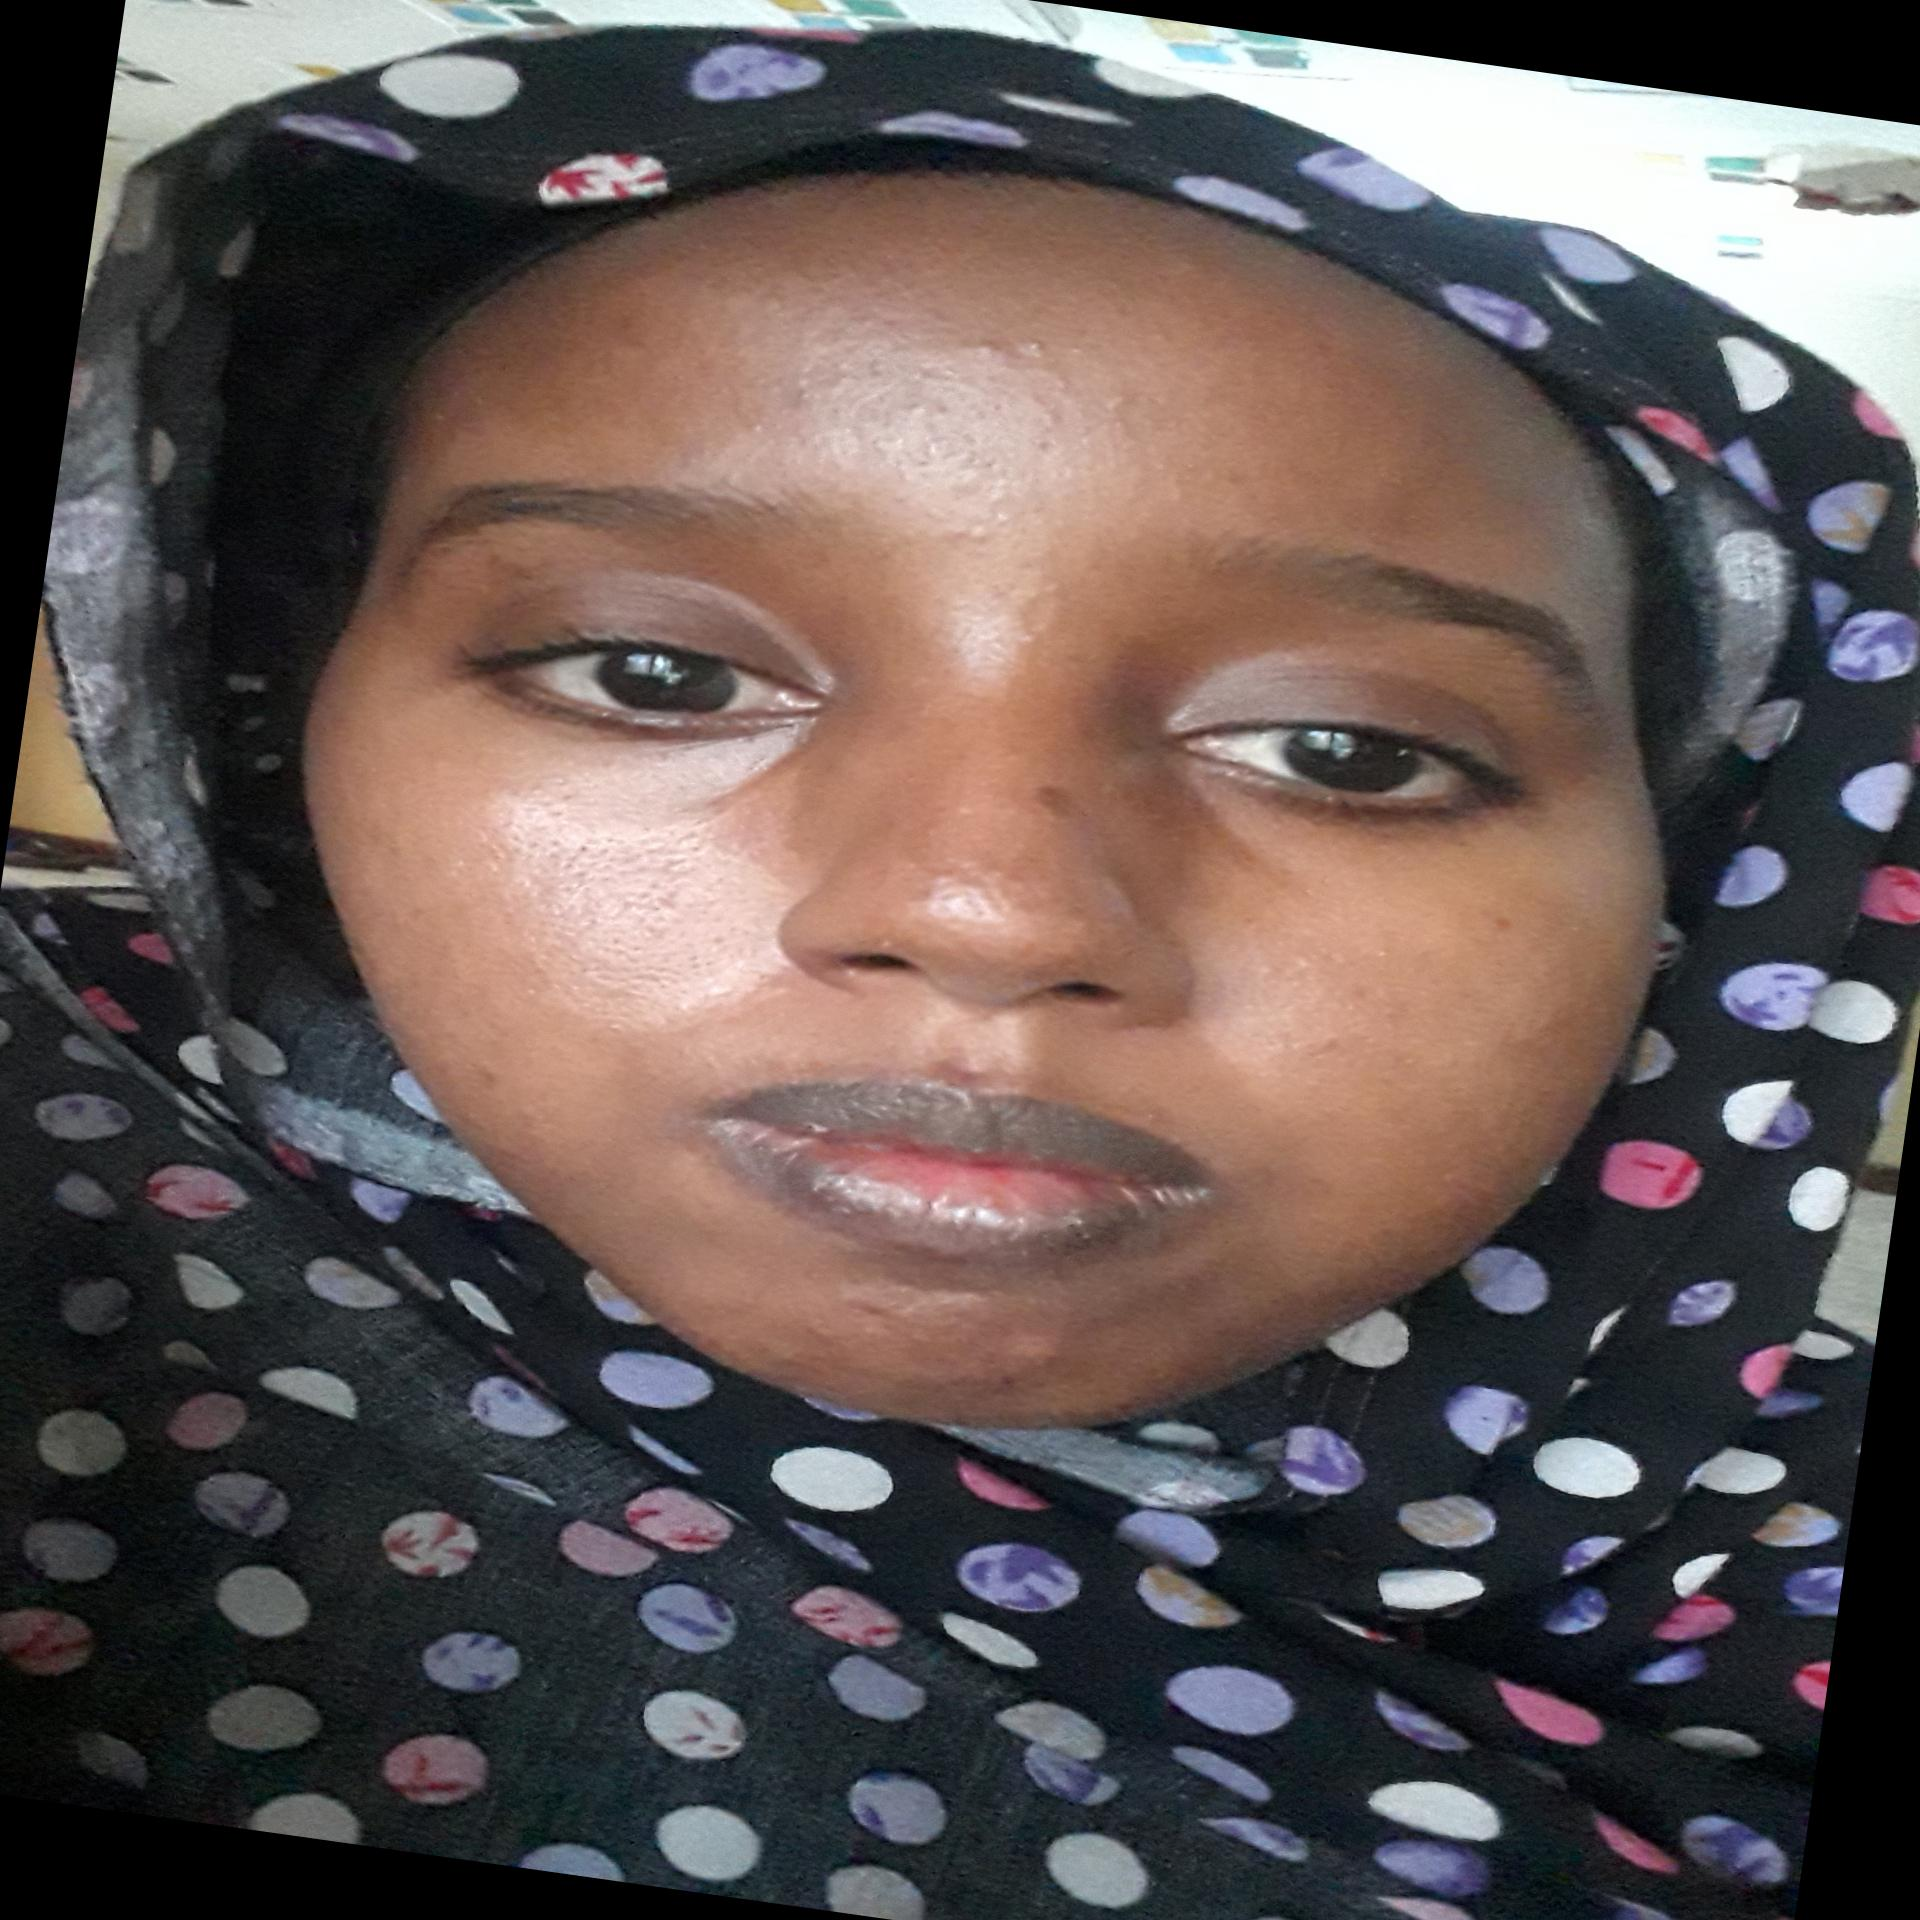Acne: (923, 1050, 1000, 1094), (1020, 775, 1085, 825), (1013, 1340, 1081, 1377), (839, 1292, 904, 1329), (1159, 250, 1220, 285), (464, 1055, 519, 1094), (939, 517, 1000, 550), (1299, 1030, 1345, 1065), (1484, 907, 1528, 941), (962, 336, 1013, 364), (1004, 628, 1041, 659), (1015, 332, 1057, 359), (981, 1364, 1022, 1387), (905, 399, 930, 424)
Englarged Pores: (478, 805, 765, 1009)
